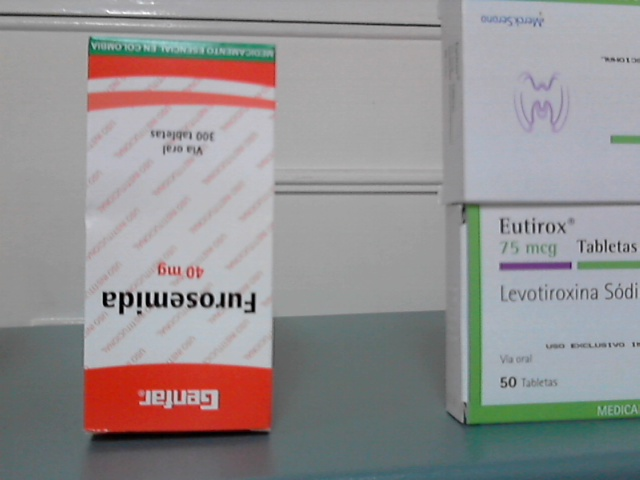Genfar: (89, 36, 271, 431)
